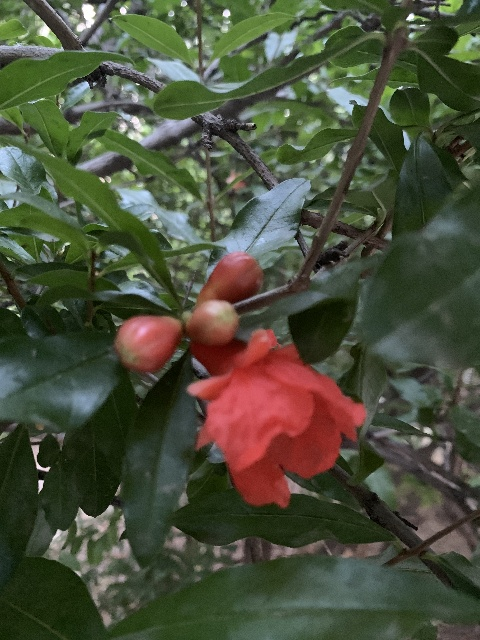bud: (113, 314, 182, 374), (193, 252, 263, 309), (186, 299, 239, 346)
flower: (185, 326, 365, 509)
